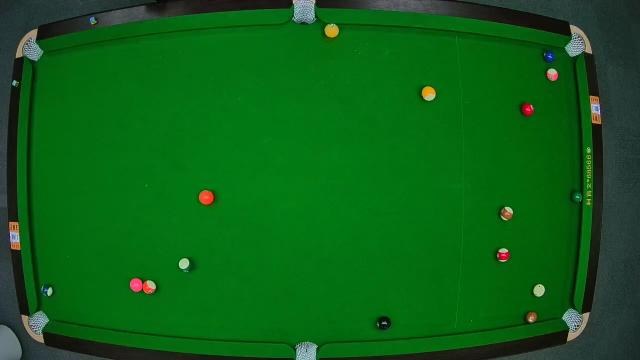bag1: (20, 40, 40, 61)
bag2: (292, 1, 316, 25)
bag3: (566, 35, 588, 55)
bag4: (28, 311, 48, 333)
bag5: (293, 340, 319, 360)
bag6: (562, 308, 582, 332)
ball0: (532, 283, 546, 297)
ball1: (324, 22, 341, 38)
ball10: (40, 282, 56, 298)
ball11: (496, 248, 510, 262)
ball12: (545, 67, 559, 83)
ball13: (142, 280, 158, 296)
ball14: (178, 256, 195, 272)
ball15: (500, 206, 514, 222)
ball2: (541, 50, 555, 62)
ball3: (521, 102, 535, 116)
ball4: (130, 278, 144, 294)
ball5: (198, 189, 214, 205)
ball6: (570, 188, 584, 204)
ball7: (524, 311, 538, 325)
ball8: (376, 316, 392, 330)
ball9: (421, 86, 437, 102)
